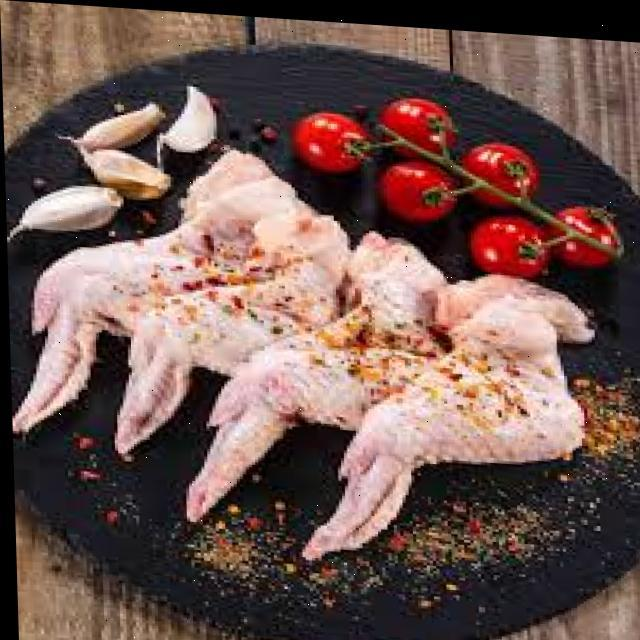wing: (11, 137, 278, 455), (366, 262, 598, 562), (117, 206, 332, 475), (228, 228, 426, 520)
